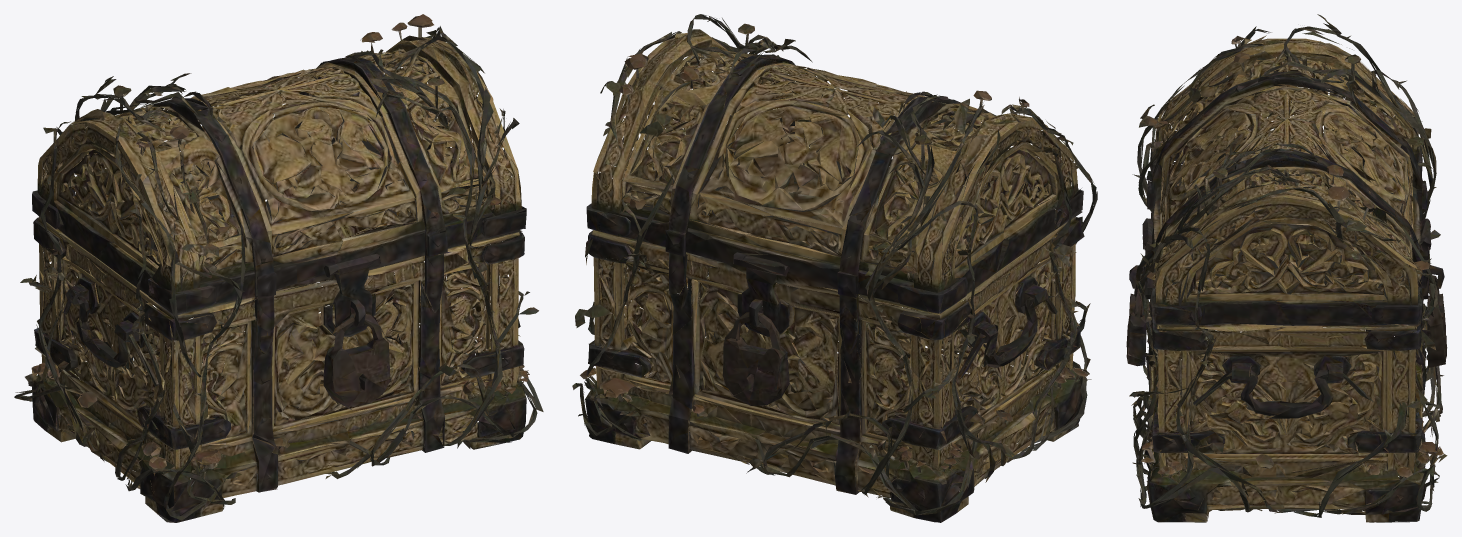
Rendered from gold_chest.glb.
The picture shows the model from 3 angles, left to right: view 1: azimuth 30°, elevation 25°; view 2: azimuth 150°, elevation 25°; view 3: azimuth 270°, elevation 25°; orthographic projection. The views are drawn at different scales.
Parts seen in each view (by area): view 1: Mesh_0; view 2: Mesh_0; view 3: Mesh_0.
Boxes of the visible parts, x1=… form: Mesh_0: x1=14, y1=14, x2=543, y2=522; Mesh_0: x1=572, y1=14, x2=1097, y2=522; Mesh_0: x1=1126, y1=14, x2=1447, y2=522.
Bounding box in the file's own units: 2 × 1.82 × 1.48.
1 material, 1 textured.
